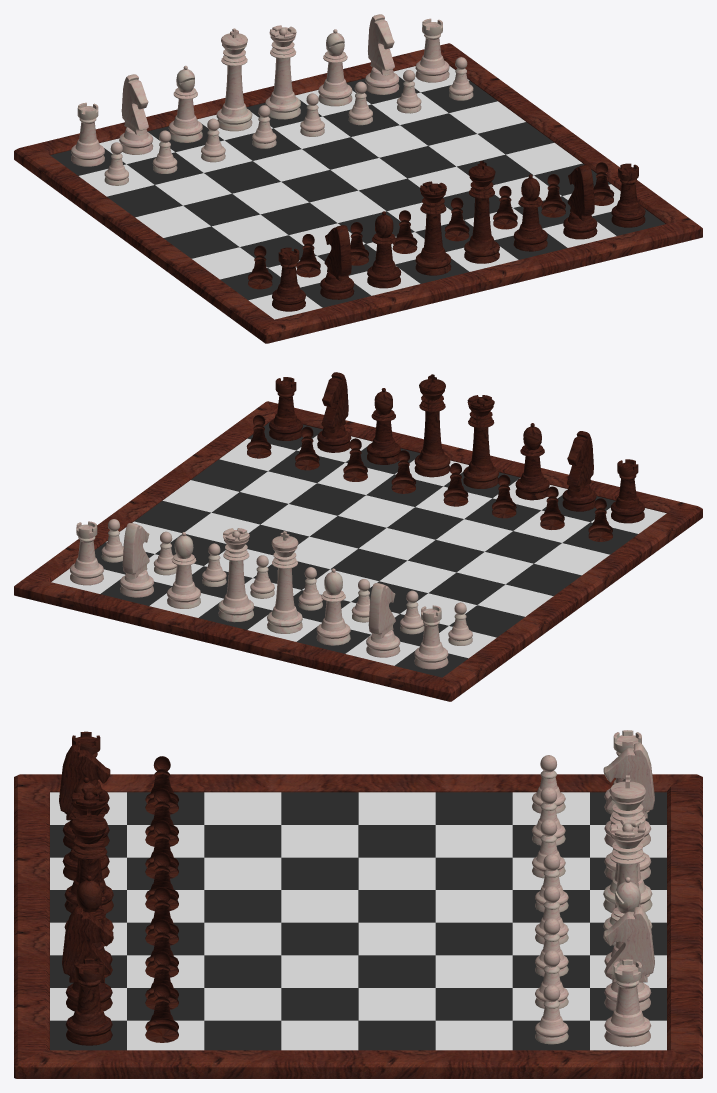
File: chess_board_and_figures.glb
The picture shows the model from 3 angles, top to bottom: view 1: azimuth 30°, elevation 25°; view 2: azimuth 150°, elevation 25°; view 3: azimuth 270°, elevation 25°; orthographic projection. The views are drawn at different scales.
Visible parts, largest first — view 1: Board_0, Koenig01_4, Koenig01.001_20, Dame01_3, Dame01.001_19, Springer01.002_26, Springer01.001_22, Springer01_6, Springer01.003_17, Lauefer01_5, Lauefer01.002_25, Lauefer01.003_16 (+21 smaller); view 2: Board_0, Koenig01.001_20, Koenig01_4, Dame01_3, Dame01.001_19, Springer01.003_17, Springer01_6, Springer01.002_26, Springer01.001_22, Lauefer01.001_21, Lauefer01.002_25, Lauefer01.003_16 (+21 smaller); view 3: Board_0, Springer01.002_26, Springer01_6, Turm01.002_27, Turm01_7, Springer01.003_17, Springer01.001_22, Koenig01.001_20, Koenig01_4, Dame01.001_19, Dame01_3, Bauer01_8 (+20 smaller).
Part boxes in pixels (box(x1,y1,x2,y2)): Board_0: box(14, 43, 702, 343); Koenig01_4: box(464, 161, 499, 263); Koenig01.001_20: box(216, 28, 252, 131); Dame01_3: box(415, 181, 451, 275); Dame01.001_19: box(265, 25, 300, 119); Springer01.002_26: box(365, 14, 399, 94); Springer01.001_22: box(119, 74, 153, 154); Springer01_6: box(563, 164, 597, 239); Springer01.003_17: box(320, 225, 354, 299); Lauefer01_5: box(513, 174, 547, 251); Lauefer01.002_25: box(318, 29, 352, 106); Lauefer01.003_16: box(367, 211, 401, 288); Board_0: box(14, 401, 702, 701); Koenig01.001_20: box(267, 531, 302, 633); Koenig01_4: box(414, 374, 450, 477); Dame01_3: box(463, 395, 498, 488); Dame01.001_19: box(218, 528, 254, 622); Springer01.003_17: box(562, 431, 596, 511); Springer01_6: box(317, 372, 351, 452); Springer01.002_26: box(120, 523, 153, 597); Springer01.001_22: box(366, 583, 400, 657); Lauefer01.001_21: box(316, 568, 350, 645); Lauefer01.002_25: box(167, 532, 200, 608); Lauefer01.003_16: box(515, 423, 549, 500); Board_0: box(14, 774, 702, 1078); Springer01.002_26: box(603, 906, 654, 1011); Springer01_6: box(62, 907, 113, 1011); Turm01.002_27: box(604, 959, 651, 1046); Turm01_7: box(65, 958, 112, 1045); Springer01.003_17: box(59, 744, 110, 848); Springer01.001_22: box(603, 743, 654, 846); Koenig01.001_20: box(603, 775, 652, 912); Koenig01_4: box(64, 808, 113, 946); Dame01.001_19: box(603, 819, 652, 945); Dame01_3: box(64, 788, 113, 913); Bauer01_8: box(145, 983, 178, 1042).
Size of the model in its own units: 0.7856 by 0.1766 by 0.7856.
5 materials, 3 textured.
